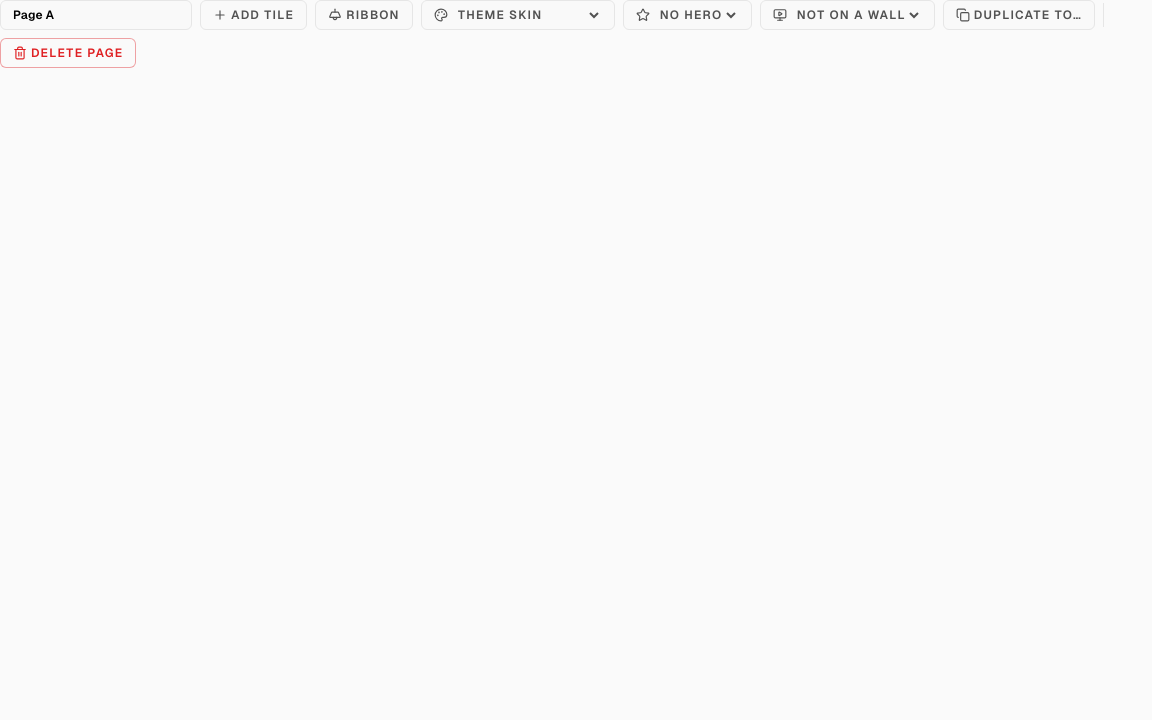
Test case: LayoutToolbar — Duplicate to… › lists every display plus the plain Dashboard option
This screenshot has width=1152, height=720.
Click the button "Duplicate to…".
click(1019, 15)  # box [943,0,1095,30]
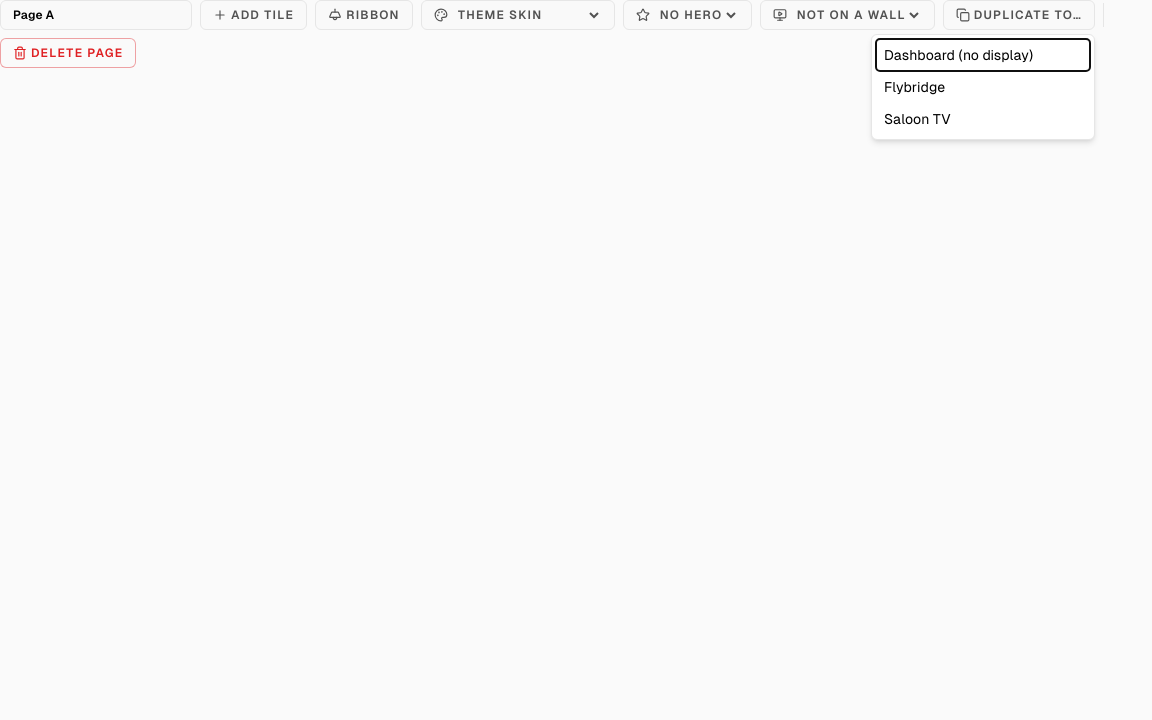
Result: the button "Dashboard (no display)" is shown at [876,39,1090,71]
Result: the button "Flybridge" is shown at [876,71,1090,103]
Result: the button "Saloon TV" is shown at [876,103,1090,135]
